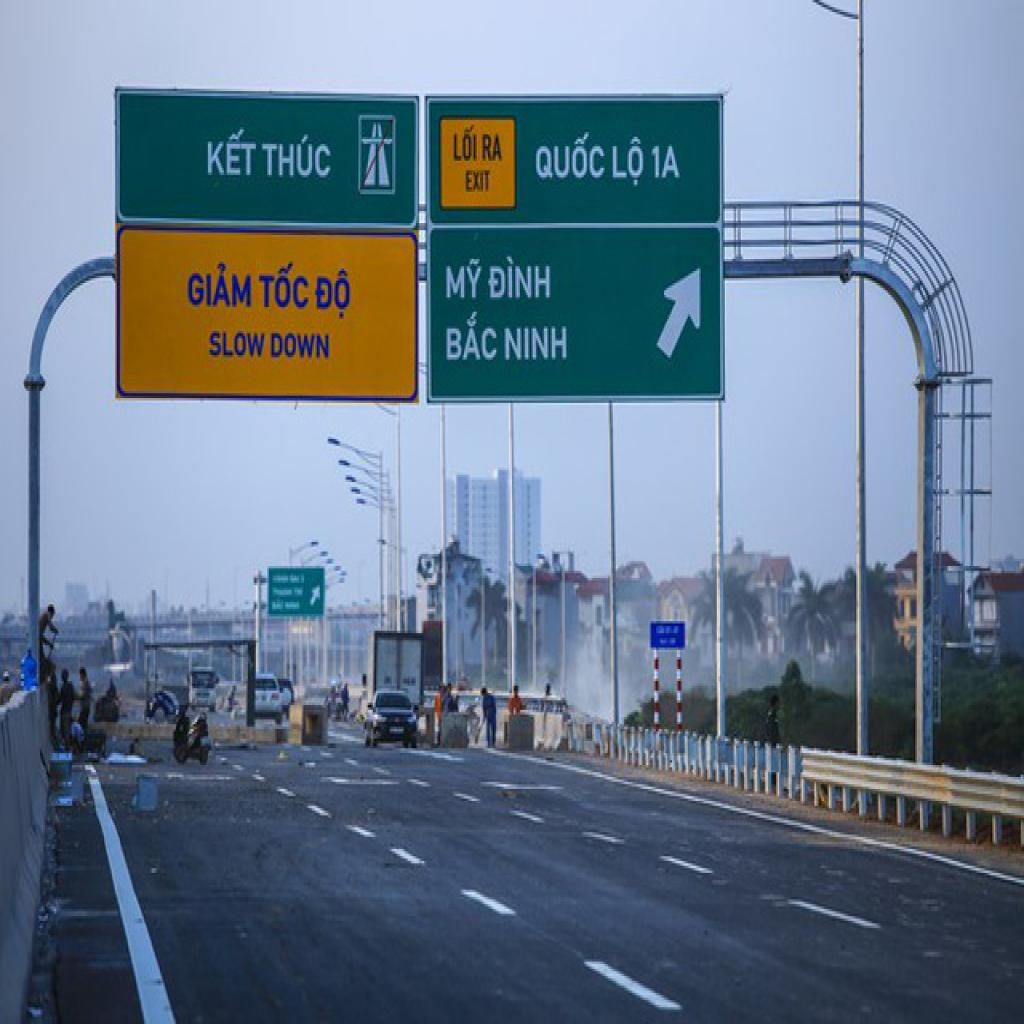text: (259, 132, 336, 189), (534, 130, 610, 184), (486, 249, 556, 307), (186, 257, 256, 314), (200, 120, 259, 182), (504, 319, 573, 367), (254, 257, 312, 314), (445, 312, 499, 367), (267, 324, 336, 362), (205, 322, 267, 364), (314, 261, 354, 324), (611, 130, 648, 190), (442, 254, 484, 305), (650, 130, 683, 184), (451, 120, 480, 168), (480, 122, 507, 168), (462, 168, 494, 197)
